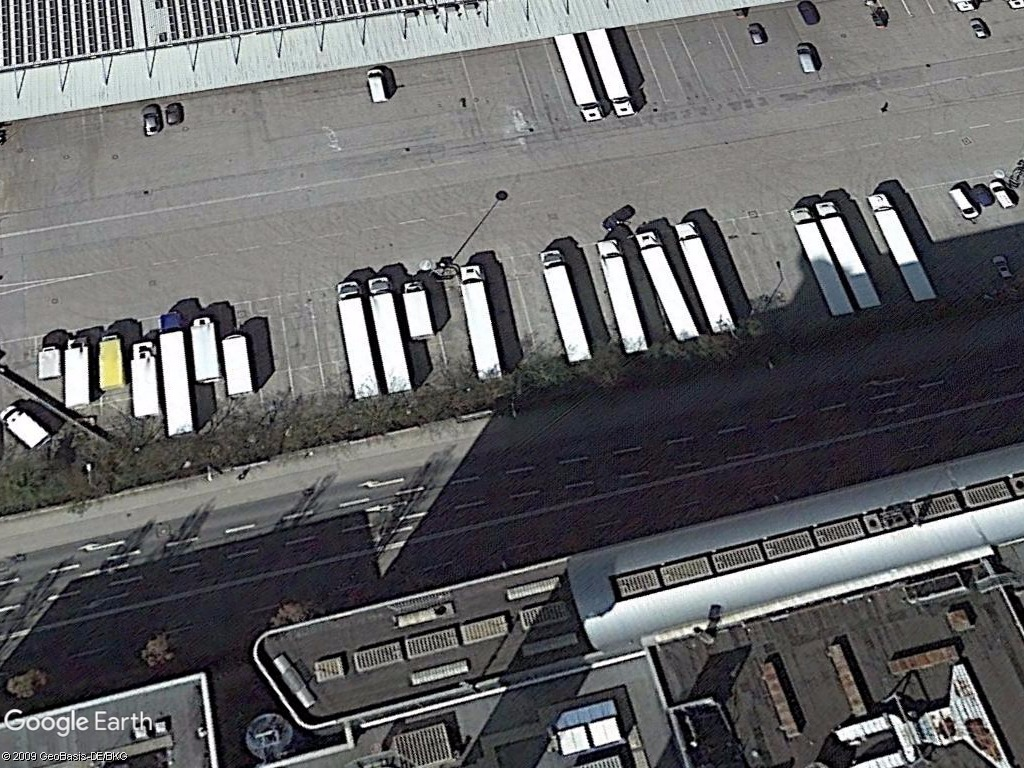car: (139, 100, 164, 140)
longvehicle: (863, 189, 942, 310), (782, 202, 860, 323), (810, 196, 887, 318), (671, 216, 746, 335), (628, 225, 703, 344), (591, 230, 658, 358), (535, 246, 595, 367), (456, 260, 511, 387), (154, 308, 203, 447), (332, 276, 384, 406), (365, 269, 413, 399), (550, 31, 608, 125), (582, 24, 637, 116)
truck: (124, 333, 166, 425), (0, 398, 53, 457), (62, 333, 97, 416), (189, 310, 225, 389), (398, 278, 438, 345), (92, 327, 130, 395)
van: (941, 182, 983, 224), (360, 63, 391, 105), (985, 176, 1017, 215), (793, 40, 822, 77)
